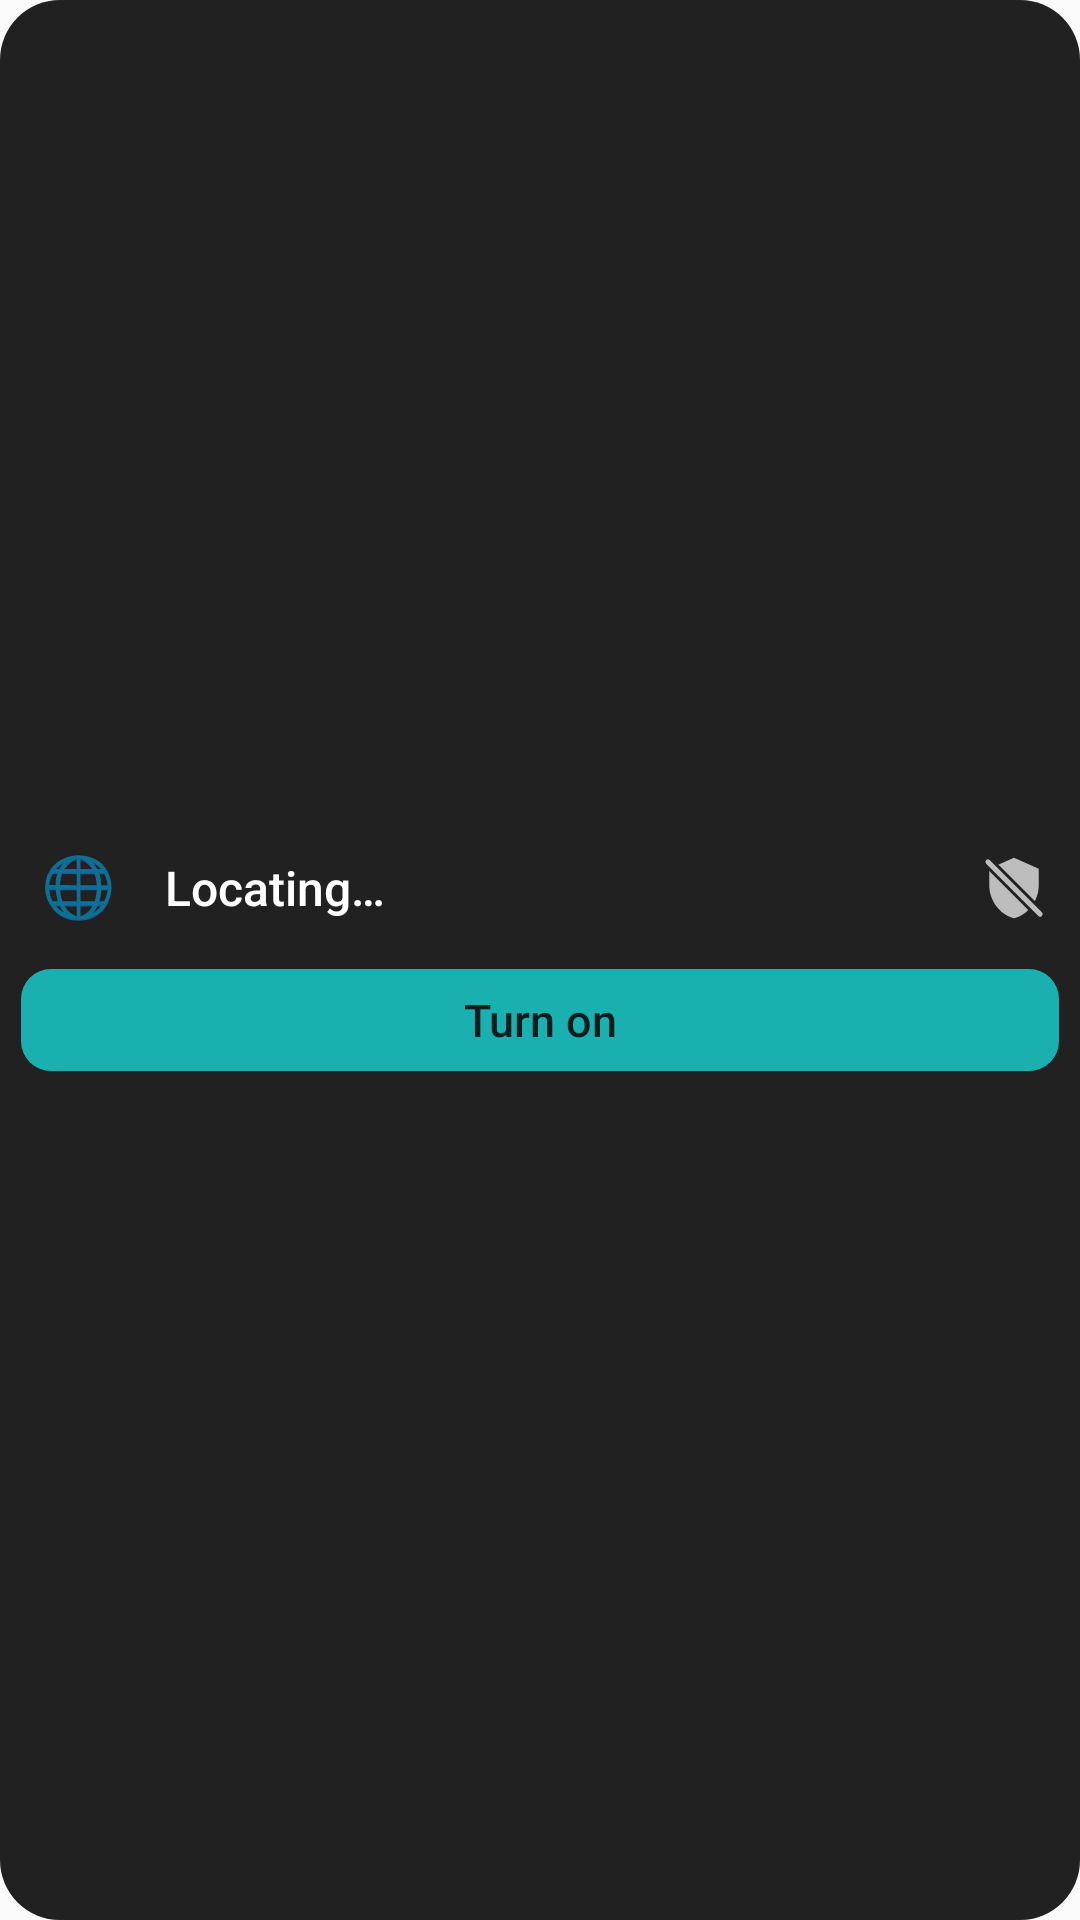

Screen size 1080 × 1920. Icon name, then its box in pixels as {"x1": x1, "y1": y1, "x2": x2, "y2": y2}:
widget shield off: {"x1": 985, "y1": 858, "x2": 1043, "y2": 918}
